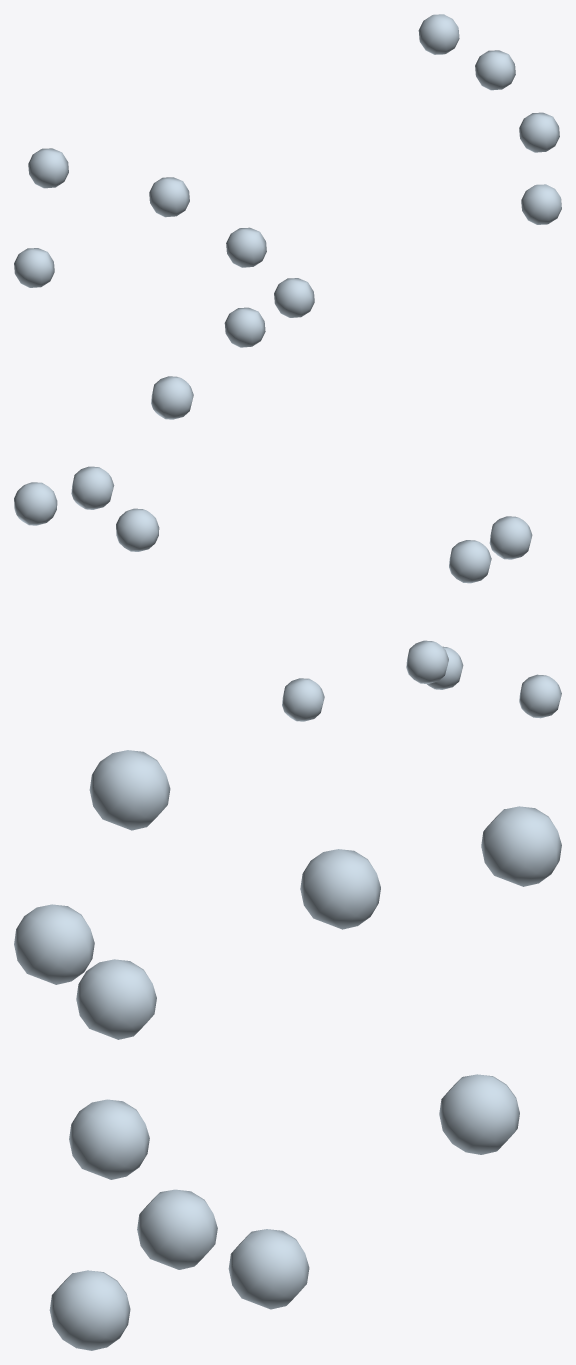
Rendered from linfatico-inferior-tracheobronchial-nodes.glb.
3 renders of one model, top to bottom at view 1: azimuth 30°, elevation 25°; view 2: azimuth 150°, elevation 25°; view 3: azimuth 270°, elevation 25°, orthographic. The views are drawn at different scales.
Parts seen in each view (by area): view 1: Inferior tracheobronchial nodes; view 2: Inferior tracheobronchial nodes; view 3: Inferior tracheobronchial nodes.
Part boxes in pixels (x1,y1,x2,y2): Inferior tracheobronchial nodes: [14, 14, 561, 347]; Inferior tracheobronchial nodes: [14, 376, 561, 721]; Inferior tracheobronchial nodes: [14, 750, 561, 1350].
Bounding box in the file's own units: 0.0358 × 0.0174 × 0.0173.
